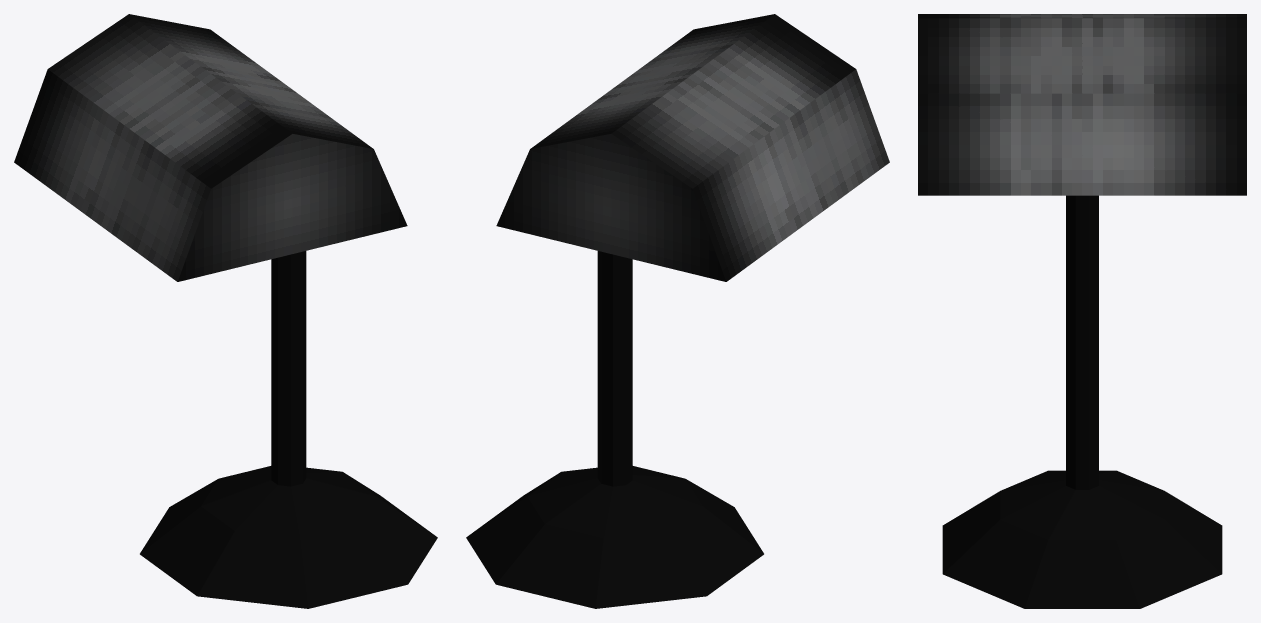
The model's file is banker_lamp.gltf.
3 renders of one model, left to right at view 1: azimuth 30°, elevation 25°; view 2: azimuth 150°, elevation 25°; view 3: azimuth 270°, elevation 25°, orthographic.
Parts seen in each view (by area): view 1: cylinder; view 2: cylinder; view 3: cylinder.
Part boxes in pixels (x1=…): cylinder: x1=14, y1=14, x2=437, y2=608; cylinder: x1=466, y1=14, x2=889, y2=608; cylinder: x1=918, y1=14, x2=1246, y2=608.
Size of the model in its own units: 0.2765 by 0.414 by 0.25.
1 material, 1 textured.
